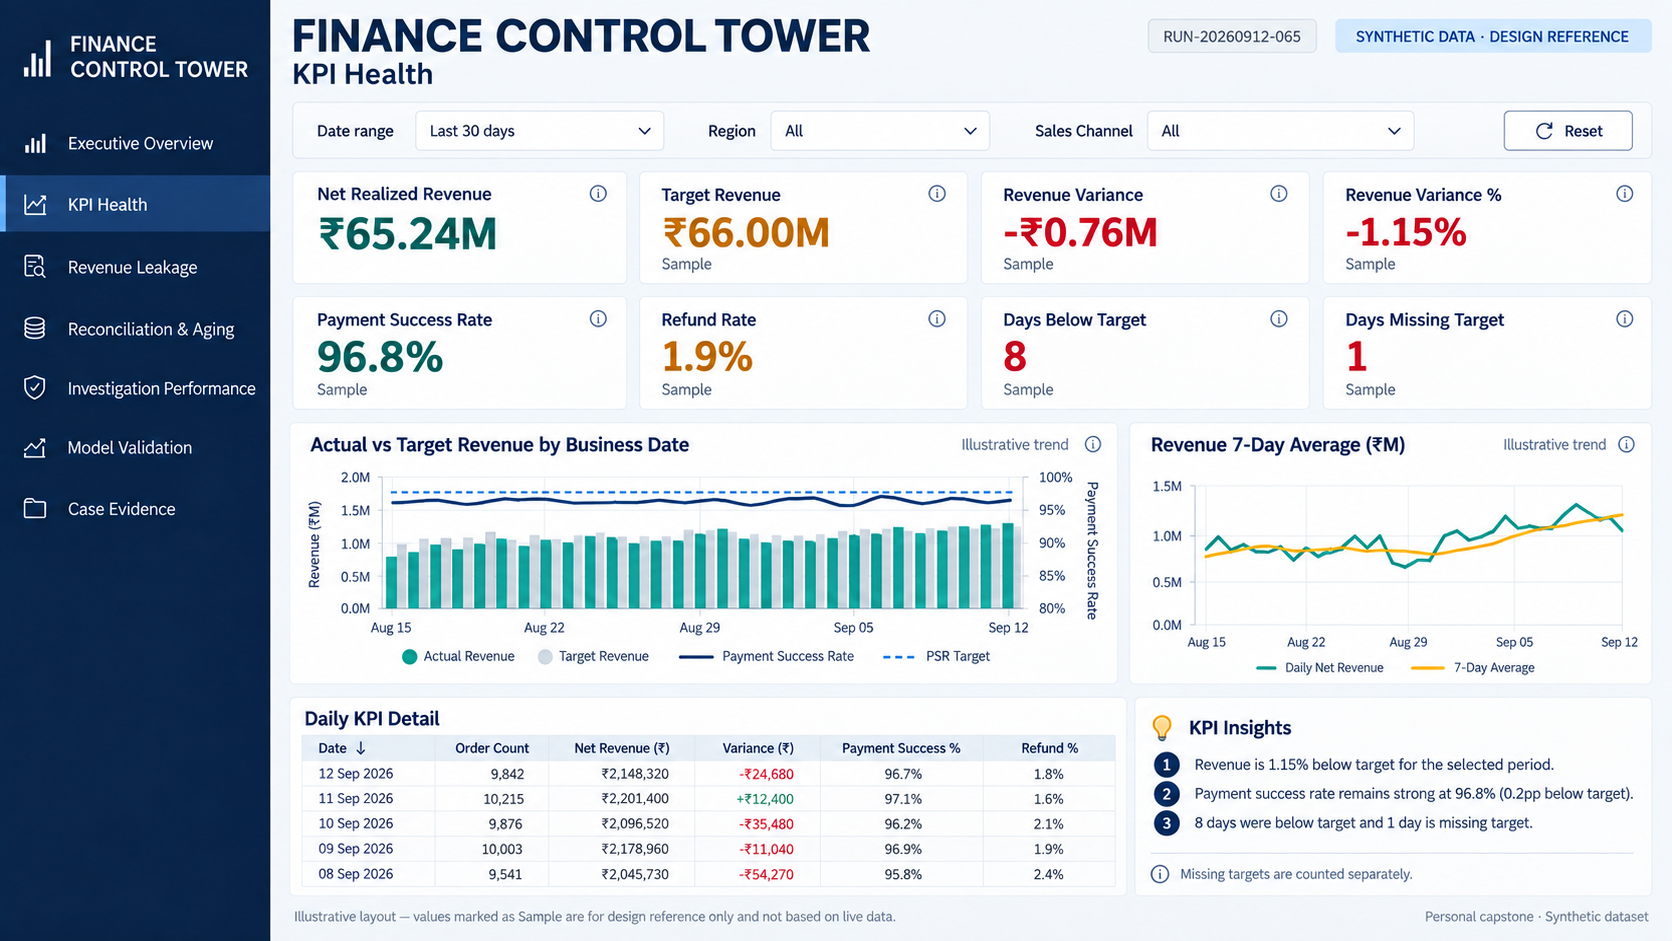

The page's visual inventory and layout, read from the dashboard file:
{"tool":"powerbi","page":{"name":"KPI health","canvas":[1280,720],"ordinal":1},"visuals":[{"type":"textbox","box":[10,0,1270,54.7],"z":0},{"type":"cardVisual","title":"Net Revenue","fields":{"Data":["rpt_fact_daily_kpis.Net Realized Revenue"]},"box":[0,75.6,171.4,124.2],"z":1000},{"type":"cardVisual","title":"Target Revenue","fields":{"Data":["rpt_fact_daily_kpis.Target Revenue"]},"box":[171.3,75.6,155.1,124.2],"z":2000},{"type":"cardVisual","title":"Revenue Variance","fields":{"Data":["rpt_fact_daily_kpis.Revenue Variance"]},"box":[904.7,75.6,210.4,124.2],"z":3000},{"type":"cardVisual","title":"Revenue Variance %","fields":{"Data":["rpt_fact_daily_kpis.Revenue Variance %"]},"box":[1115.1,75.6,165,124.2],"z":4000},{"type":"cardVisual","title":"Payment Success Rate","fields":{"Data":["rpt_fact_daily_kpis.Payment Success Rate %"]},"box":[614,75.6,171.3,123.9],"z":5000},{"type":"cardVisual","title":"Refund Rate","fields":{"Data":["rpt_fact_daily_kpis.Refund Rate %"]},"box":[326.1,75.6,153.2,124.2],"z":6000},{"type":"cardVisual","title":"Days Below Revenue Target","fields":{"Data":["rpt_fact_daily_kpis.Days Below Revenue Target"]},"box":[480.1,75.6,134.2,124.2],"z":7000},{"type":"cardVisual","title":"Days Missing Target","fields":{"Data":["rpt_fact_daily_kpis.Days Missing Target"]},"box":[785.3,75.6,119.7,124.2],"z":8000},{"type":"lineStackedColumnComboChart","title":"Daily Revenue vs Target","fields":{"Category":["rpt_dim_date.date_key"],"Y":["rpt_fact_daily_kpis.Net Realized Revenue"],"Y2":["rpt_fact_daily_kpis.Target Revenue"]},"box":[0,199.5,699.7,276],"z":9000},{"type":"lineChart","title":"Daily Payment Success Rate","fields":{"Category":["rpt_dim_date.date_key"],"Y":["rpt_fact_daily_kpis.Payment Success Rate %"]},"box":[699.7,199.5,580.3,276],"z":10000},{"type":"lineChart","title":"Revenue — 7-Day Moving Average","fields":{"Category":["rpt_dim_date.date_key"],"Y":["rpt_fact_daily_kpis.Revenue 7 Day Average"]},"box":[699.7,475.6,580.3,244.2],"z":11000},{"type":"pivotTable","title":"Daily KPI Detail","fields":{"Rows":["rpt_dim_date.date_key"],"Values":["rpt_fact_daily_kpis.Order Count","rpt_fact_daily_kpis.Net Realized Revenue","rpt_fact_daily_kpis.Revenue Variance","rpt_fact_daily_kpis.Payment Success Rate %","rpt_fact_daily_kpis.Refund Rate %"]},"box":[0,475.6,699.7,244.2],"z":12000},{"type":"slicer","fields":{"Values":["rpt_dim_date.date_key"]},"box":[233.2,0,246.9,75.6],"z":13000}]}

Visuals, with their boxes on the page's 1280x720 design canvas (x1, y1, x2, y2). These are canvas units, not pixel positions in the 1672x941 screenshot, which may show the page scaled, cropped or inside an application window:
textbox: x1=10 y1=0 x2=1280 y2=55
"Net Revenue" cardVisual: x1=0 y1=76 x2=171 y2=200
"Target Revenue" cardVisual: x1=171 y1=76 x2=326 y2=200
"Revenue Variance" cardVisual: x1=905 y1=76 x2=1115 y2=200
"Revenue Variance %" cardVisual: x1=1115 y1=76 x2=1280 y2=200
"Payment Success Rate" cardVisual: x1=614 y1=76 x2=785 y2=200
"Refund Rate" cardVisual: x1=326 y1=76 x2=479 y2=200
"Days Below Revenue Target" cardVisual: x1=480 y1=76 x2=614 y2=200
"Days Missing Target" cardVisual: x1=785 y1=76 x2=905 y2=200
"Daily Revenue vs Target" lineStackedColumnComboChart: x1=0 y1=200 x2=700 y2=476
"Daily Payment Success Rate" lineChart: x1=700 y1=200 x2=1280 y2=476
"Revenue — 7-Day Moving Average" lineChart: x1=700 y1=476 x2=1280 y2=720
"Daily KPI Detail" pivotTable: x1=0 y1=476 x2=700 y2=720
slicer - rpt_dim_date.date_key: x1=233 y1=0 x2=480 y2=76
